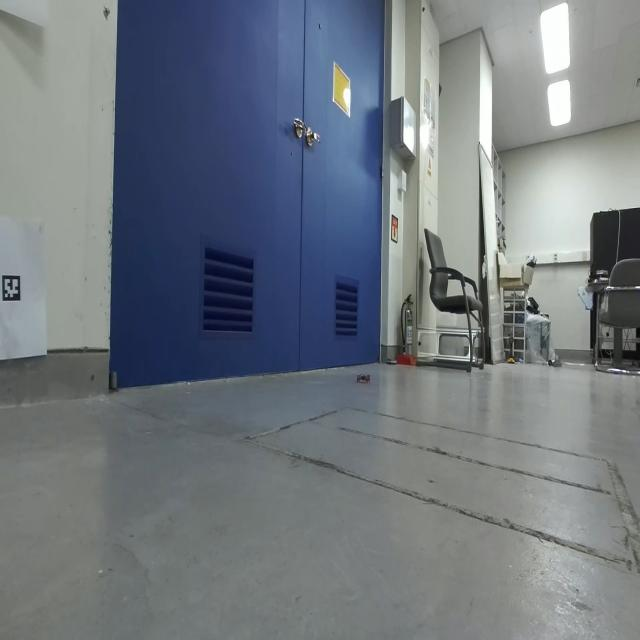crazyflie: (352, 367, 377, 391)
